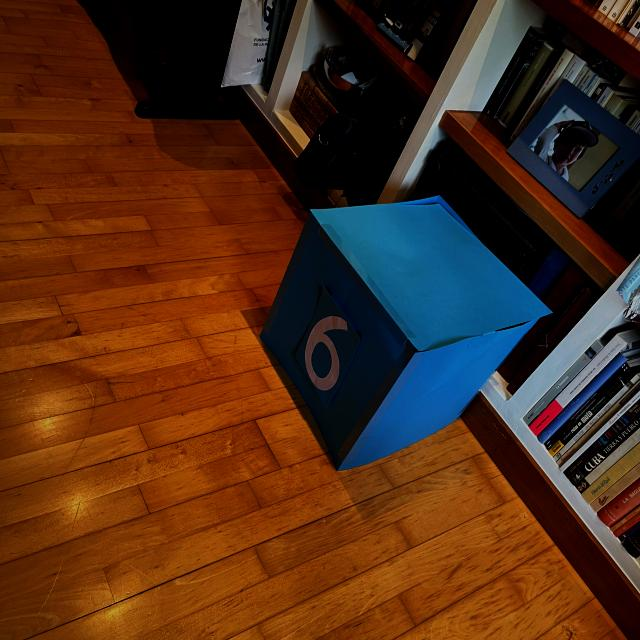box: (258, 192, 552, 472)
